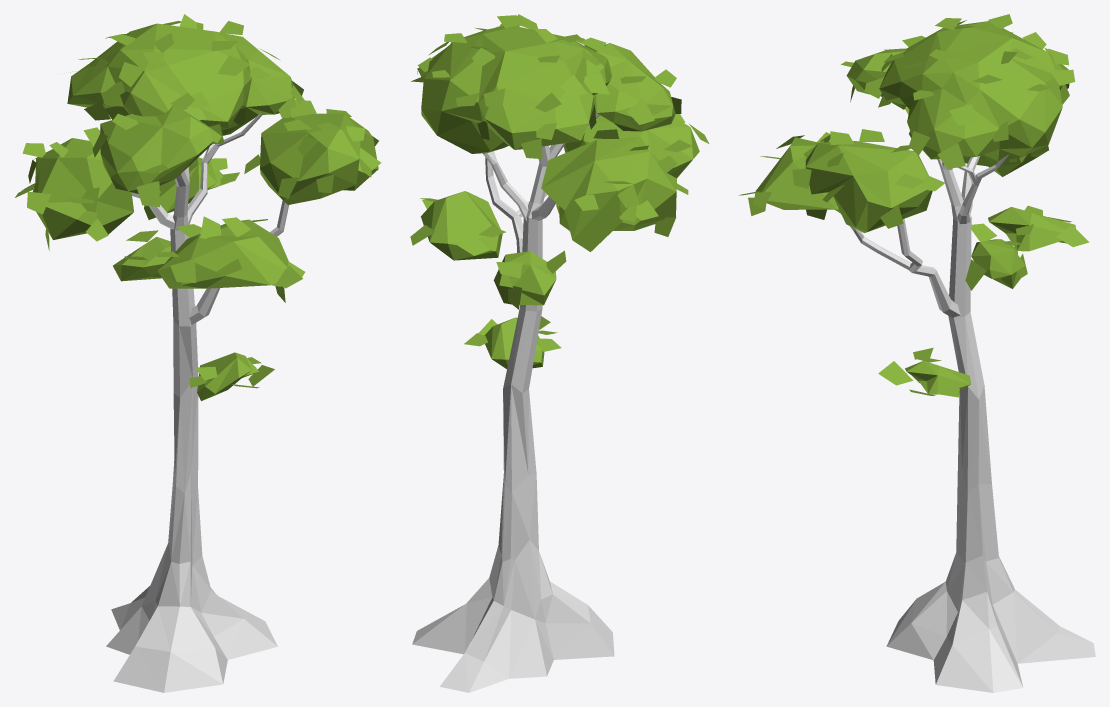
File: SM_Tree_Jungle_Young_A.fbx
3 renders of one model, left to right at view 1: azimuth 30°, elevation 25°; view 2: azimuth 150°, elevation 25°; view 3: azimuth 270°, elevation 25°, orthographic.
Visible parts, largest first — view 1: tree-jungle-young-a; view 2: tree-jungle-young-a; view 3: tree-jungle-young-a.
Part boxes in pixels (box(x1,y1,x2,y2)): tree-jungle-young-a: box(15, 14, 381, 692); tree-jungle-young-a: box(410, 14, 709, 692); tree-jungle-young-a: box(738, 14, 1095, 692).
Size of the model in its own units: 3.06 by 5.84 by 3.07.
